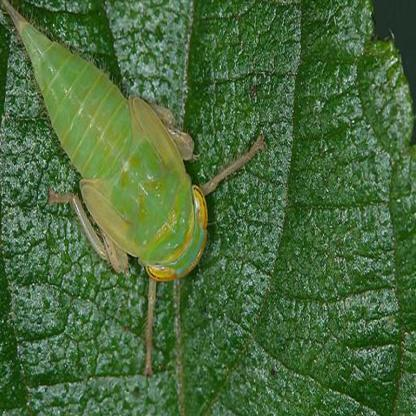green-leafhopper: (6, 2, 217, 286)
